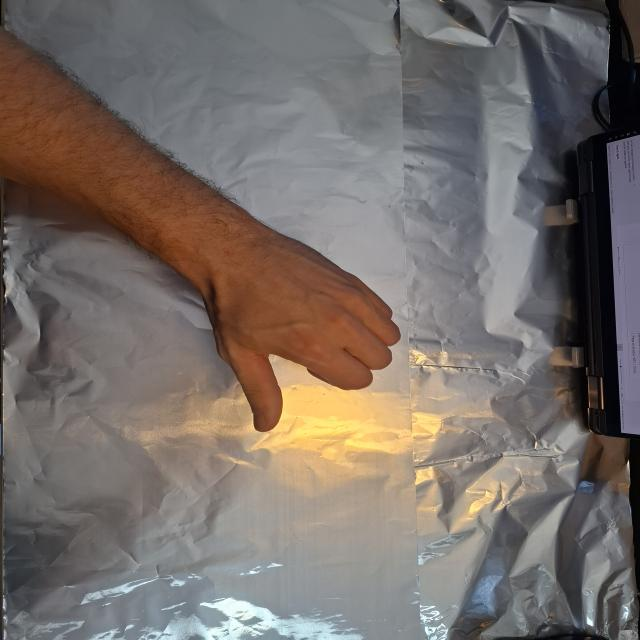glove_off: (191, 235, 403, 434)
